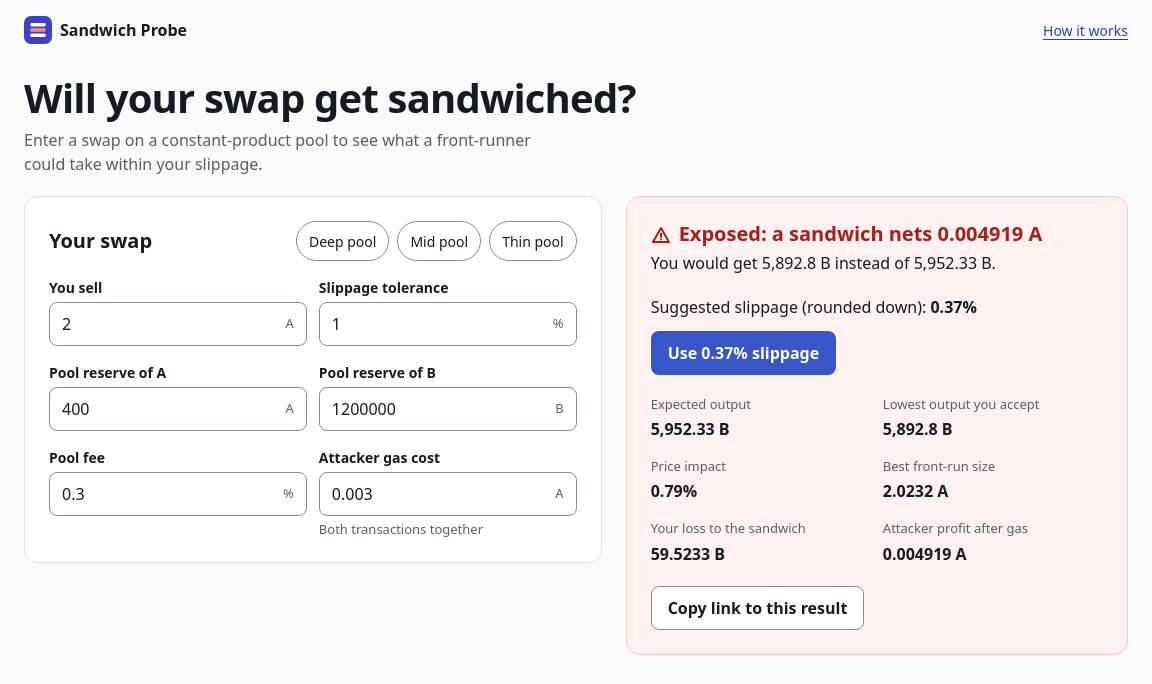
Test case: App › recomputes live as the swap size changes
The image size is (1152, 684).
Replace the text in the field named "You sell (token A)" with "0.1": (168, 324) [50,304,286,344]
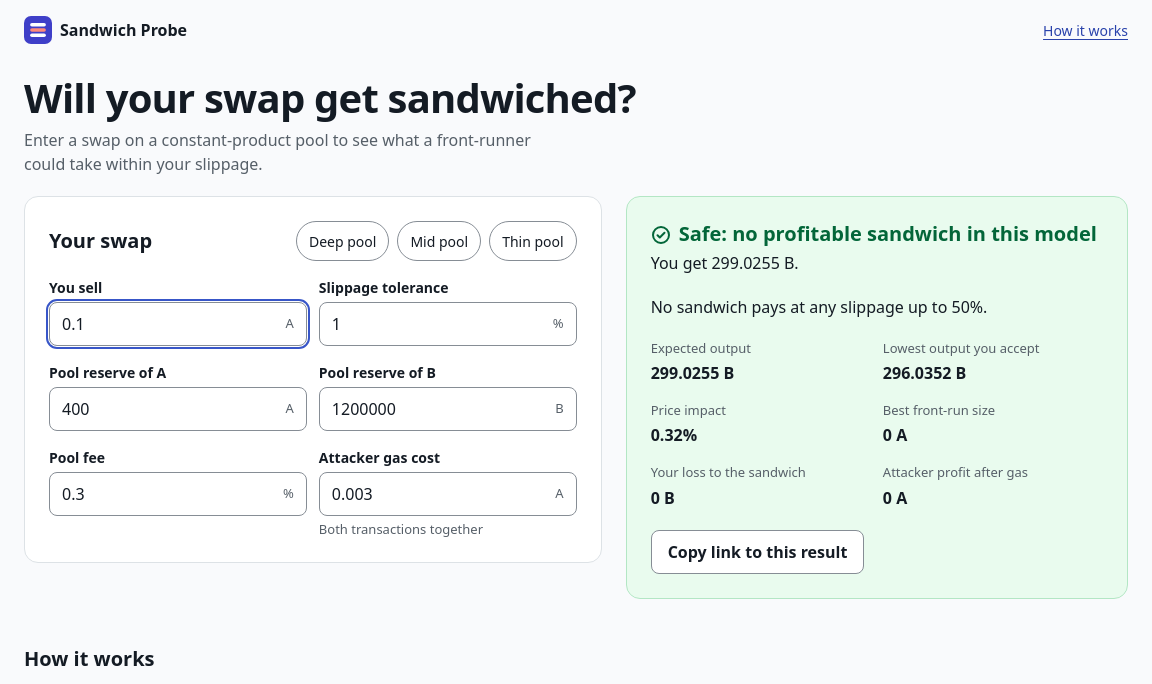
Result: the message shows "Safe" at [679,220,1097,247]
